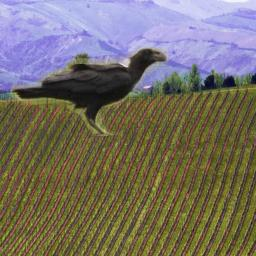Crow: (10, 47, 169, 136)
